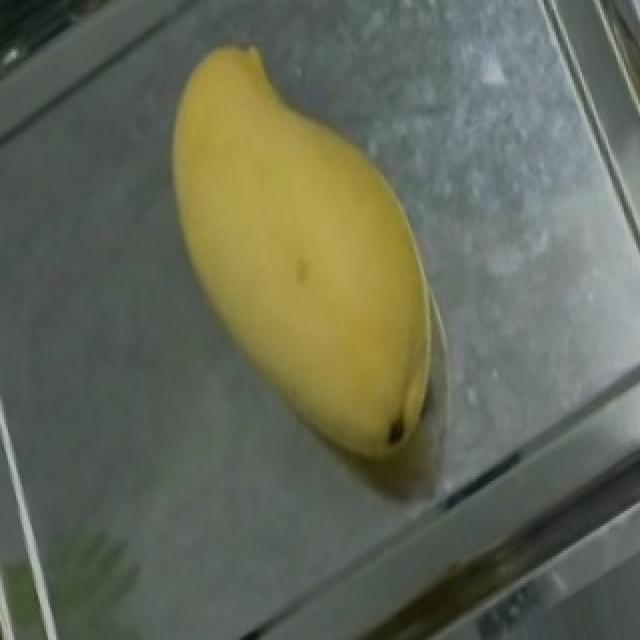fruit: (100, 12, 484, 427)
